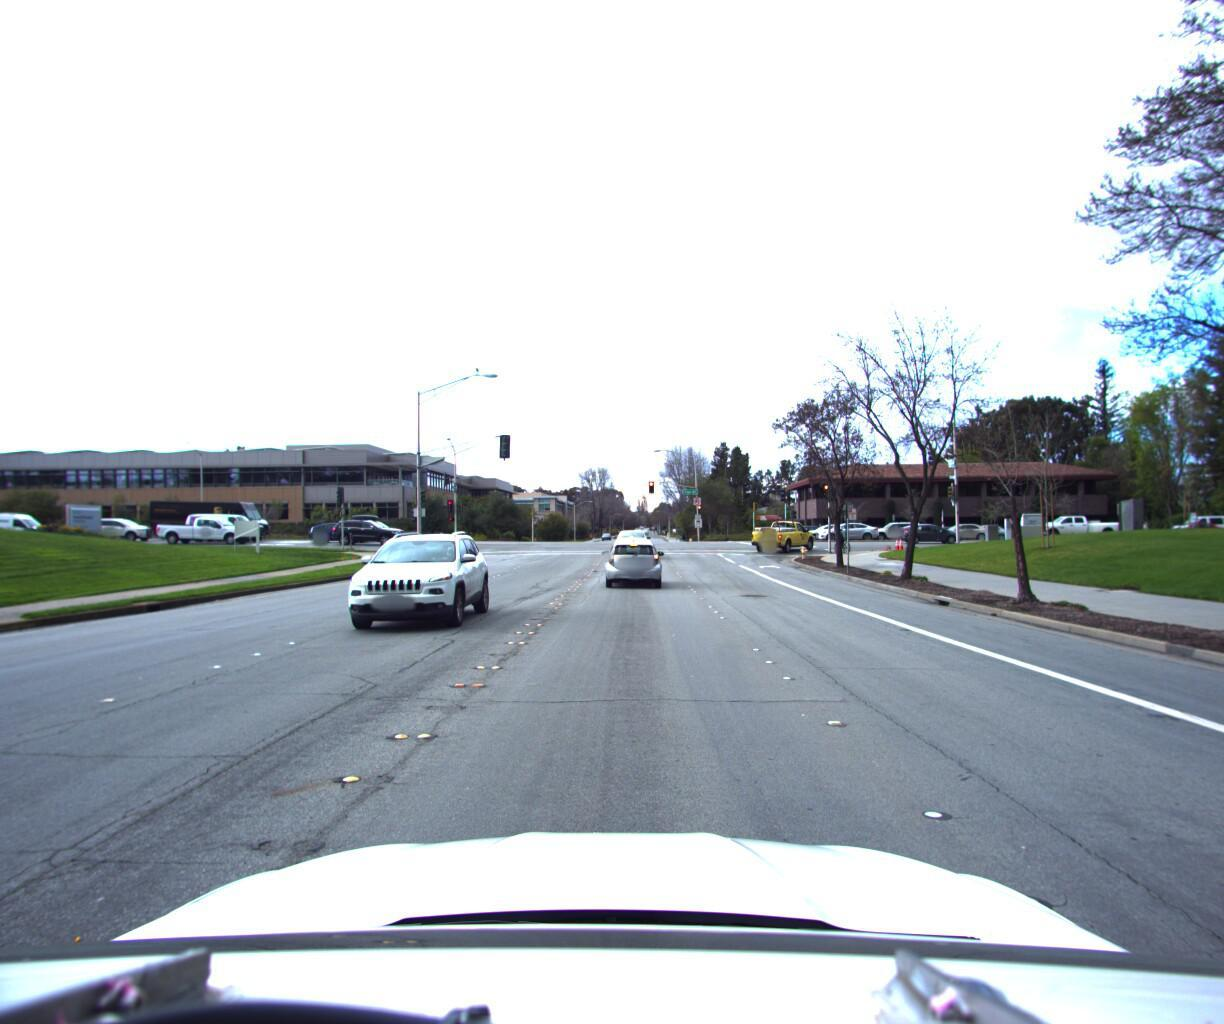bicycle: (825, 521, 853, 548)
car: (328, 524, 495, 635), (602, 530, 668, 586), (157, 513, 261, 544), (1024, 508, 1120, 537), (746, 511, 816, 550), (188, 511, 270, 540), (327, 514, 407, 542), (892, 517, 966, 546), (0, 508, 63, 539), (86, 514, 161, 539), (811, 513, 879, 538), (303, 516, 371, 541), (1159, 507, 1224, 533), (862, 515, 926, 537), (921, 517, 990, 536)
truck: (147, 494, 279, 539)
